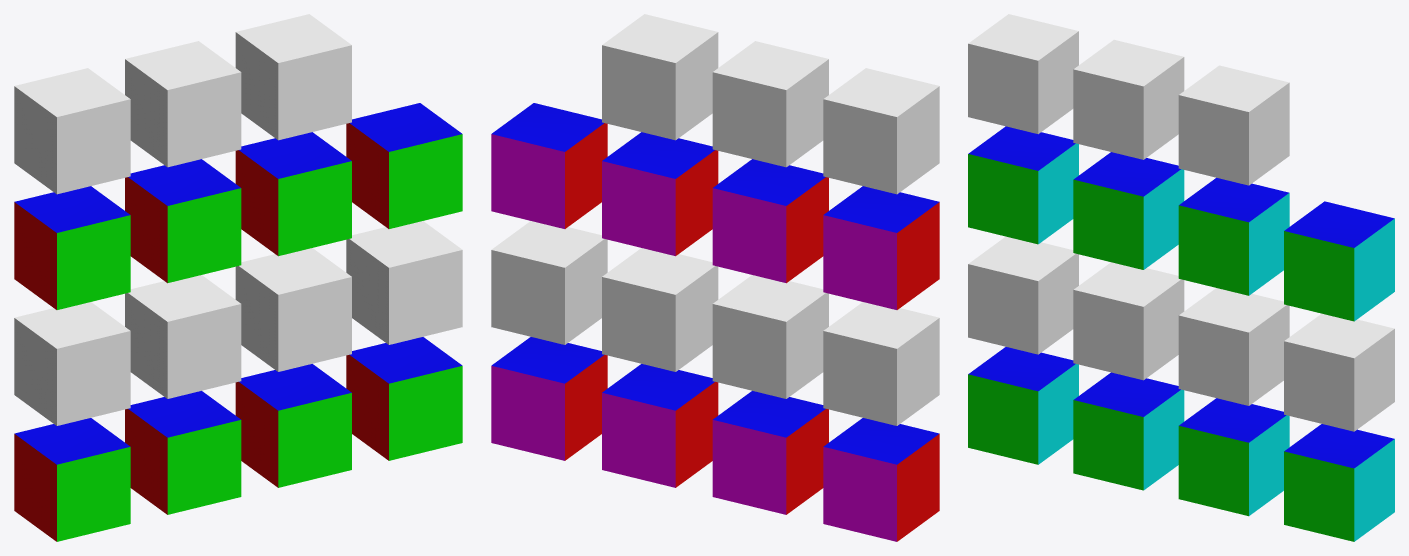
3 renders of one model, left to right at view 1: azimuth 30°, elevation 25°; view 2: azimuth 150°, elevation 25°; view 3: azimuth 330°, elevation 25°, orthographic. The views are drawn at different scales.
Visible parts, largest first — view 1: Shade Prim, VCol Shade Prim, VCol Tex Shade Prim, Tex Shade Prim, Shade, Prim, VCol, Tex Shade, VCol Tex Shade, VCol Shade, VCol Tex, VCol Tex Prim (+3 smaller); view 2: Shade Prim, VCol Shade Prim, VCol Tex Shade Prim, Tex Shade Prim, Shade, Prim, VCol, Tex Shade, VCol Tex Shade, VCol Shade, VCol Tex, VCol Tex Prim (+3 smaller); view 3: Prim, VCol, Tex, VCol Tex, Shade, Shade Prim, VCol Prim, VCol Tex Prim, VCol Tex Shade, VCol Shade, Tex Shade, Tex Prim (+3 smaller).
Part boxes in pixels (bbox=[...]): Shade Prim: bbox=[14, 68, 130, 194]; VCol Shade Prim: bbox=[14, 186, 130, 309]; VCol Tex Shade Prim: bbox=[14, 418, 130, 541]; Tex Shade Prim: bbox=[14, 302, 130, 425]; Shade: bbox=[125, 41, 241, 167]; Prim: bbox=[235, 14, 351, 140]; VCol: bbox=[346, 103, 462, 228]; Tex Shade: bbox=[125, 275, 241, 398]; VCol Tex Shade: bbox=[125, 391, 241, 514]; VCol Shade: bbox=[125, 159, 241, 283]; VCol Tex: bbox=[346, 337, 462, 460]; VCol Tex Prim: bbox=[235, 364, 351, 487]; Shade Prim: bbox=[823, 68, 939, 194]; VCol Shade Prim: bbox=[823, 186, 939, 309]; VCol Tex Shade Prim: bbox=[823, 418, 939, 541]; Tex Shade Prim: bbox=[823, 302, 939, 425]; Shade: bbox=[712, 41, 828, 167]; Prim: bbox=[602, 14, 718, 140]; VCol: bbox=[491, 103, 607, 228]; Tex Shade: bbox=[712, 275, 828, 398]; VCol Tex Shade: bbox=[712, 391, 828, 514]; VCol Shade: bbox=[712, 159, 828, 283]; VCol Tex: bbox=[491, 337, 607, 460]; VCol Tex Prim: bbox=[602, 364, 718, 487]; Prim: bbox=[1178, 65, 1289, 185]; VCol: bbox=[1284, 201, 1394, 321]; Tex: bbox=[1284, 313, 1394, 431]; VCol Tex: bbox=[1284, 424, 1394, 541]; Shade: bbox=[1073, 39, 1184, 159]; Shade Prim: bbox=[968, 14, 1078, 134]; VCol Prim: bbox=[1178, 177, 1289, 295]; VCol Tex Prim: bbox=[1178, 398, 1289, 516]; VCol Tex Shade: bbox=[1073, 372, 1184, 490]; VCol Shade: bbox=[1073, 152, 1184, 269]; Tex Shade: bbox=[1073, 262, 1184, 380]; Tex Prim: bbox=[1178, 288, 1289, 405].
Bounding box in the file's own units: 11 × 11 × 2.
